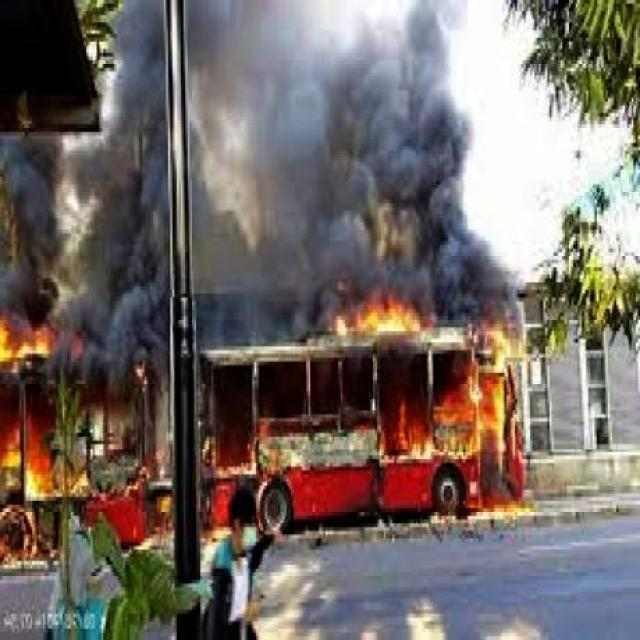Fire: (404, 344, 524, 451), (0, 417, 60, 501), (0, 313, 50, 368), (348, 308, 422, 334)
Smoke: (318, 21, 524, 306), (60, 146, 182, 370), (184, 145, 324, 340), (111, 0, 306, 136), (0, 124, 65, 312)
